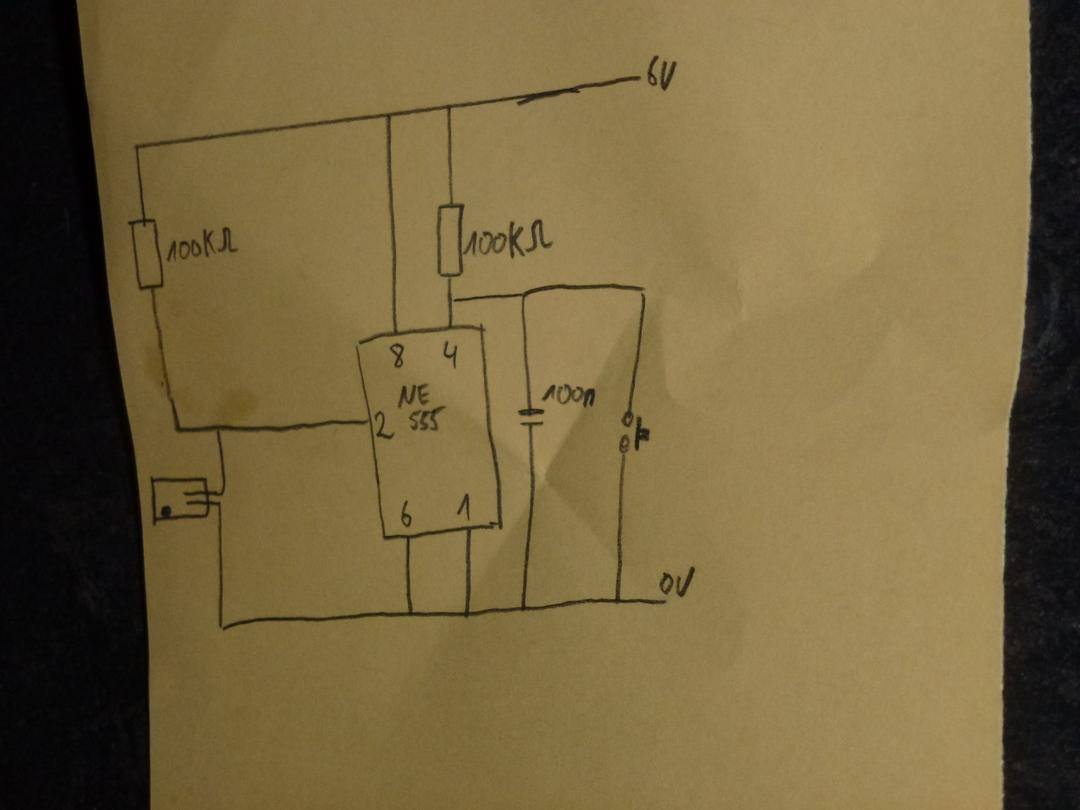capacitor.unpolarized: (516, 407, 548, 428)
integrated_cricuit.ne555: (353, 321, 504, 542)
junction: (381, 108, 397, 124), (635, 283, 651, 298), (211, 422, 227, 436), (442, 101, 459, 114), (216, 620, 230, 635), (611, 593, 625, 607), (460, 608, 475, 621), (518, 289, 532, 302), (516, 602, 531, 614), (404, 608, 417, 620), (445, 294, 458, 306), (172, 423, 184, 435), (132, 142, 144, 154), (217, 489, 224, 497), (216, 499, 223, 506)
resistor: (126, 217, 166, 292), (434, 201, 465, 281)
switch: (149, 475, 212, 525), (617, 410, 652, 456)
terminal: (632, 72, 644, 85), (657, 597, 671, 608)
text: (463, 219, 554, 260), (166, 227, 240, 264), (396, 382, 446, 431), (541, 383, 597, 409), (645, 53, 679, 92), (658, 566, 696, 598), (373, 410, 396, 441), (388, 341, 407, 369), (443, 339, 459, 370), (455, 492, 472, 521), (399, 498, 415, 528)
